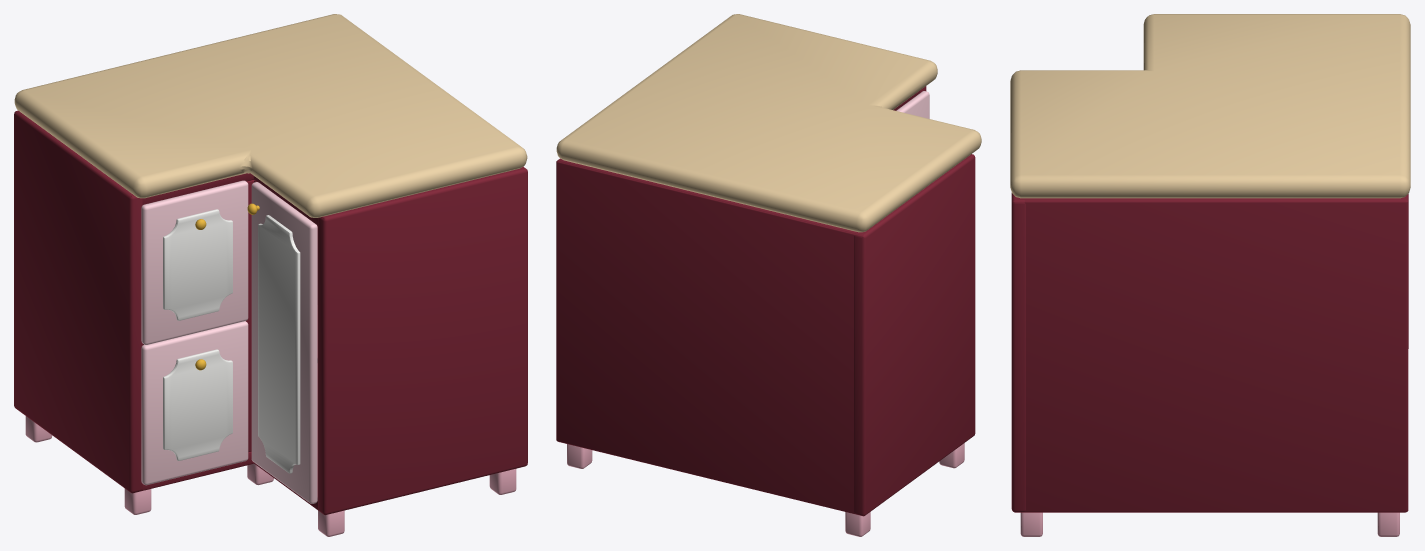
The model's file is armario_cozinha_canto_classica_vinho.glb.
3 views of the same model, side by side, from view 1: azimuth 30°, elevation 25°; view 2: azimuth 150°, elevation 25°; view 3: azimuth 270°, elevation 25° (orthographic). The views are drawn at different scales.
Visible parts, largest first — view 1: armario_cozinha_canto_classica_vinho, porta_1, gaveta_1, gaveta_2; view 2: armario_cozinha_canto_classica_vinho, porta_1; view 3: armario_cozinha_canto_classica_vinho.
Part boxes in pixels (x1=…): armario_cozinha_canto_classica_vinho: x1=14, y1=14, x2=527, y2=536; porta_1: x1=247, y1=182, x2=317, y2=503; gaveta_1: x1=141, y1=180, x2=248, y2=344; gaveta_2: x1=141, y1=321, x2=248, y2=485; armario_cozinha_canto_classica_vinho: x1=556, y1=14, x2=981, y2=536; porta_1: x1=896, y1=91, x2=929, y2=118; armario_cozinha_canto_classica_vinho: x1=1010, y1=14, x2=1410, y2=536.
Size of the model in its own units: 0.898 by 0.9 by 0.899.
Materials: 1 (1 with a texture image).
